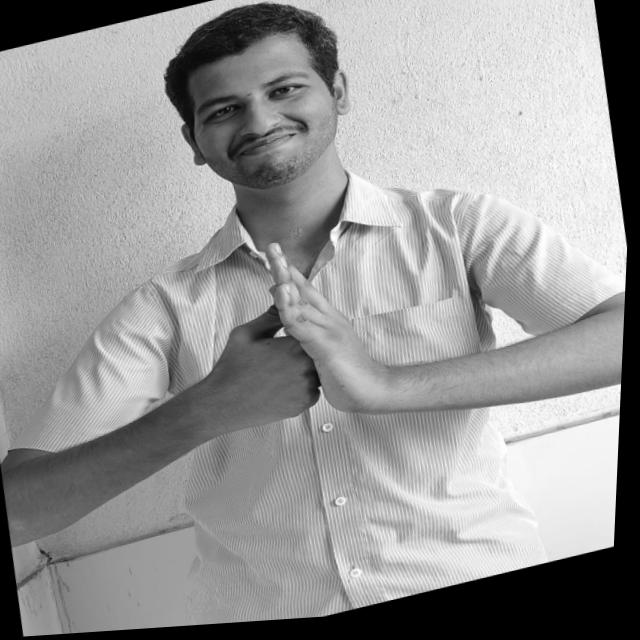Well Done: (166, 223, 403, 459)
